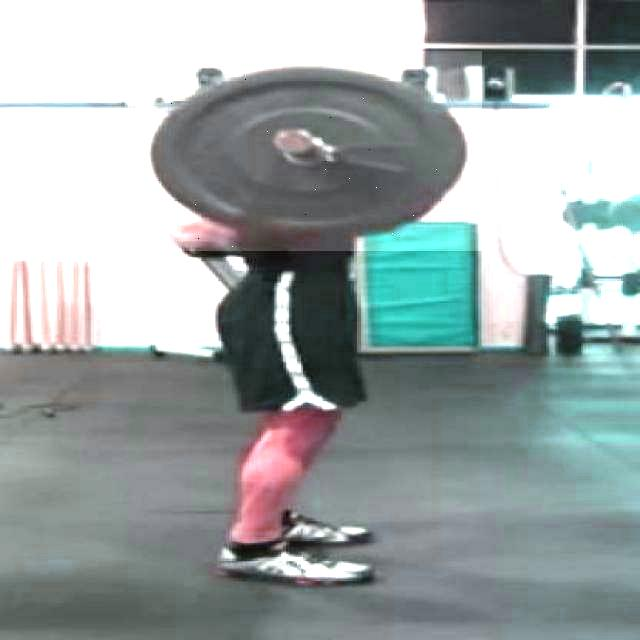barbell: (136, 51, 482, 252)
